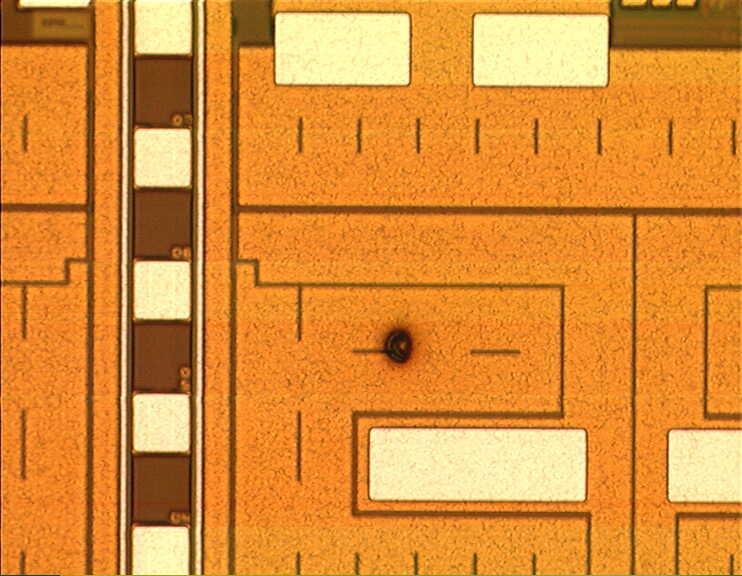PIQ PARTICLE: (377, 323, 421, 367)
